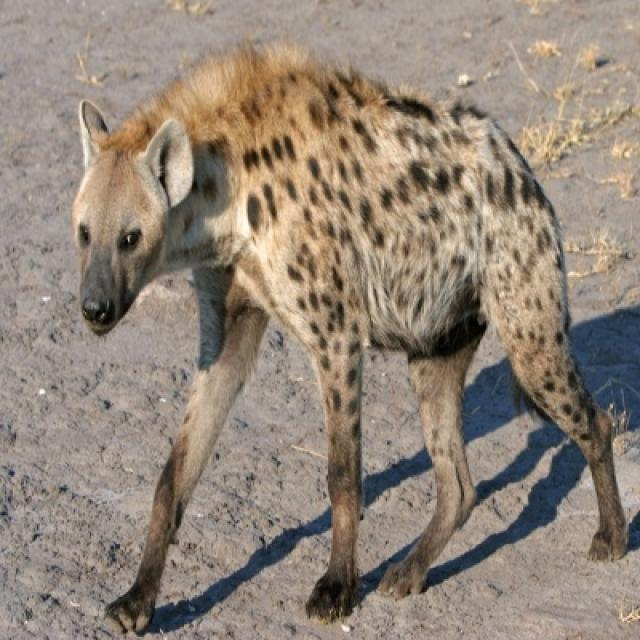hyena: (70, 40, 638, 635)
